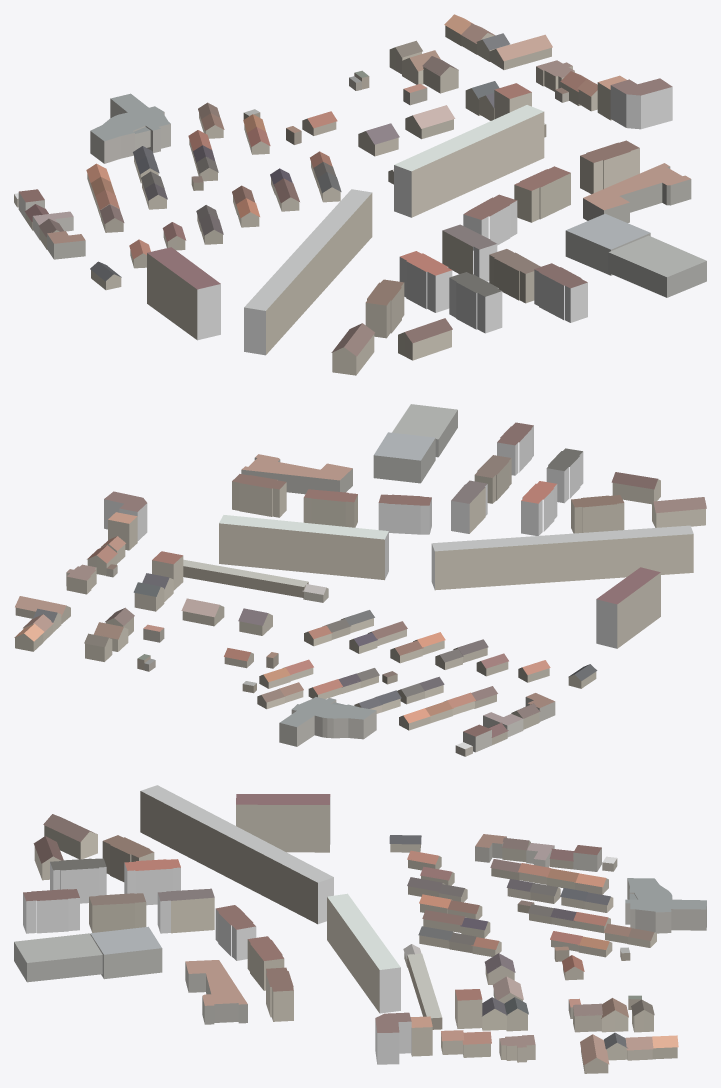
The picture shows the model from 3 angles, top to bottom: view 1: azimuth 30°, elevation 25°; view 2: azimuth 150°, elevation 25°; view 3: azimuth 270°, elevation 25°; orthographic projection. The views are drawn at different scales.
Visible parts, largest first — view 1: tuile; view 2: tuile; view 3: tuile.
Part boxes in pixels (x1=…): tuile: x1=14, y1=14, x2=706, y2=375; tuile: x1=14, y1=404, x2=706, y2=756; tuile: x1=14, y1=785, x2=706, y2=1073.
Bounding box in the file's own units: 243 × 36.59 × 278.
